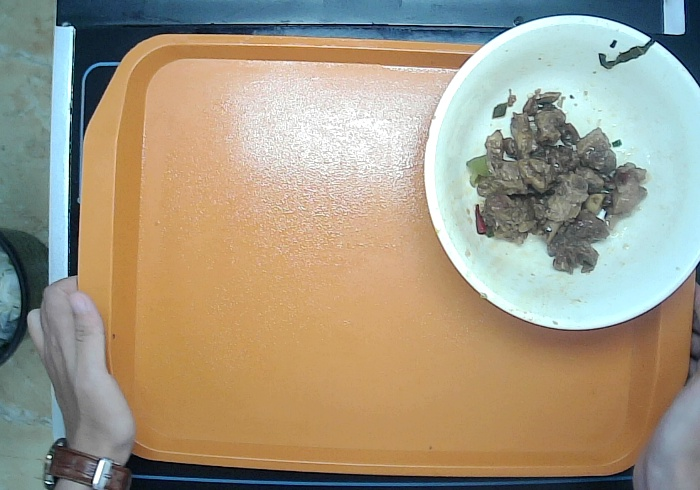ZNLD-Da_Tang_Wan: (421, 12, 700, 333)
